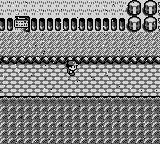leer: (14, 16, 30, 32)
main: (65, 61, 78, 76)
no-caminable: (0, 97, 159, 143), (32, 18, 125, 32), (126, 0, 158, 31), (0, 18, 13, 31)
